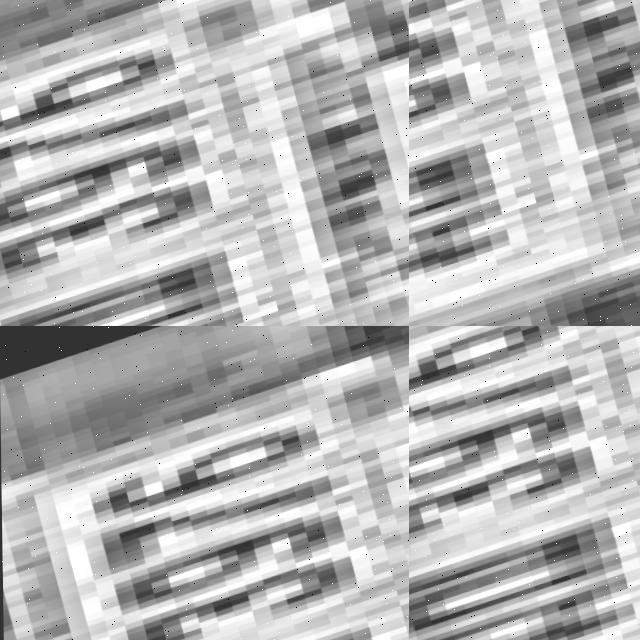license-plate: (0, 326, 409, 640), (73, 0, 409, 326), (409, 0, 640, 326), (409, 326, 640, 640)
